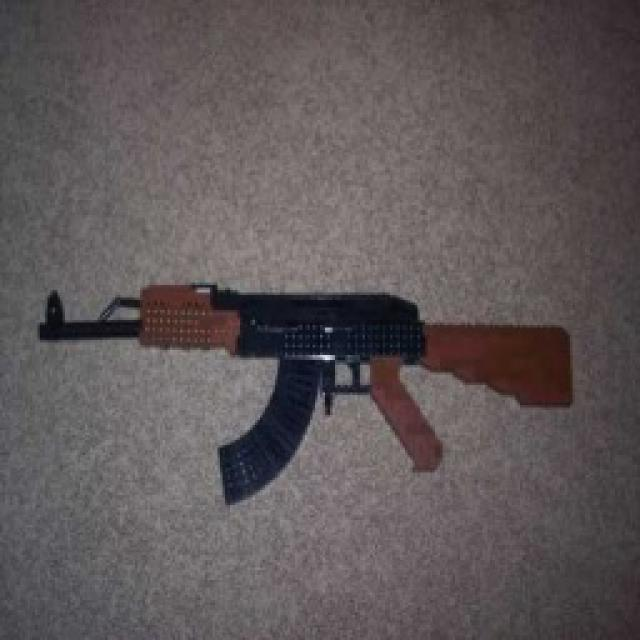long weapon: (21, 266, 586, 507)
